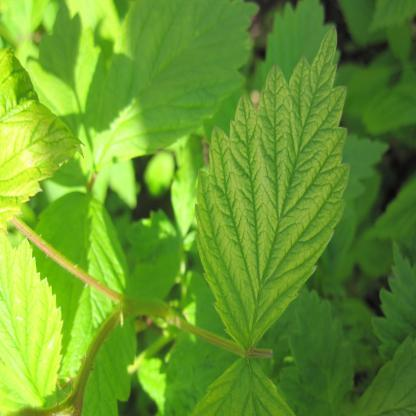Raspberry leaf: (192, 26, 352, 352)
